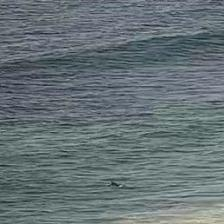surfer: (108, 182, 124, 188)
